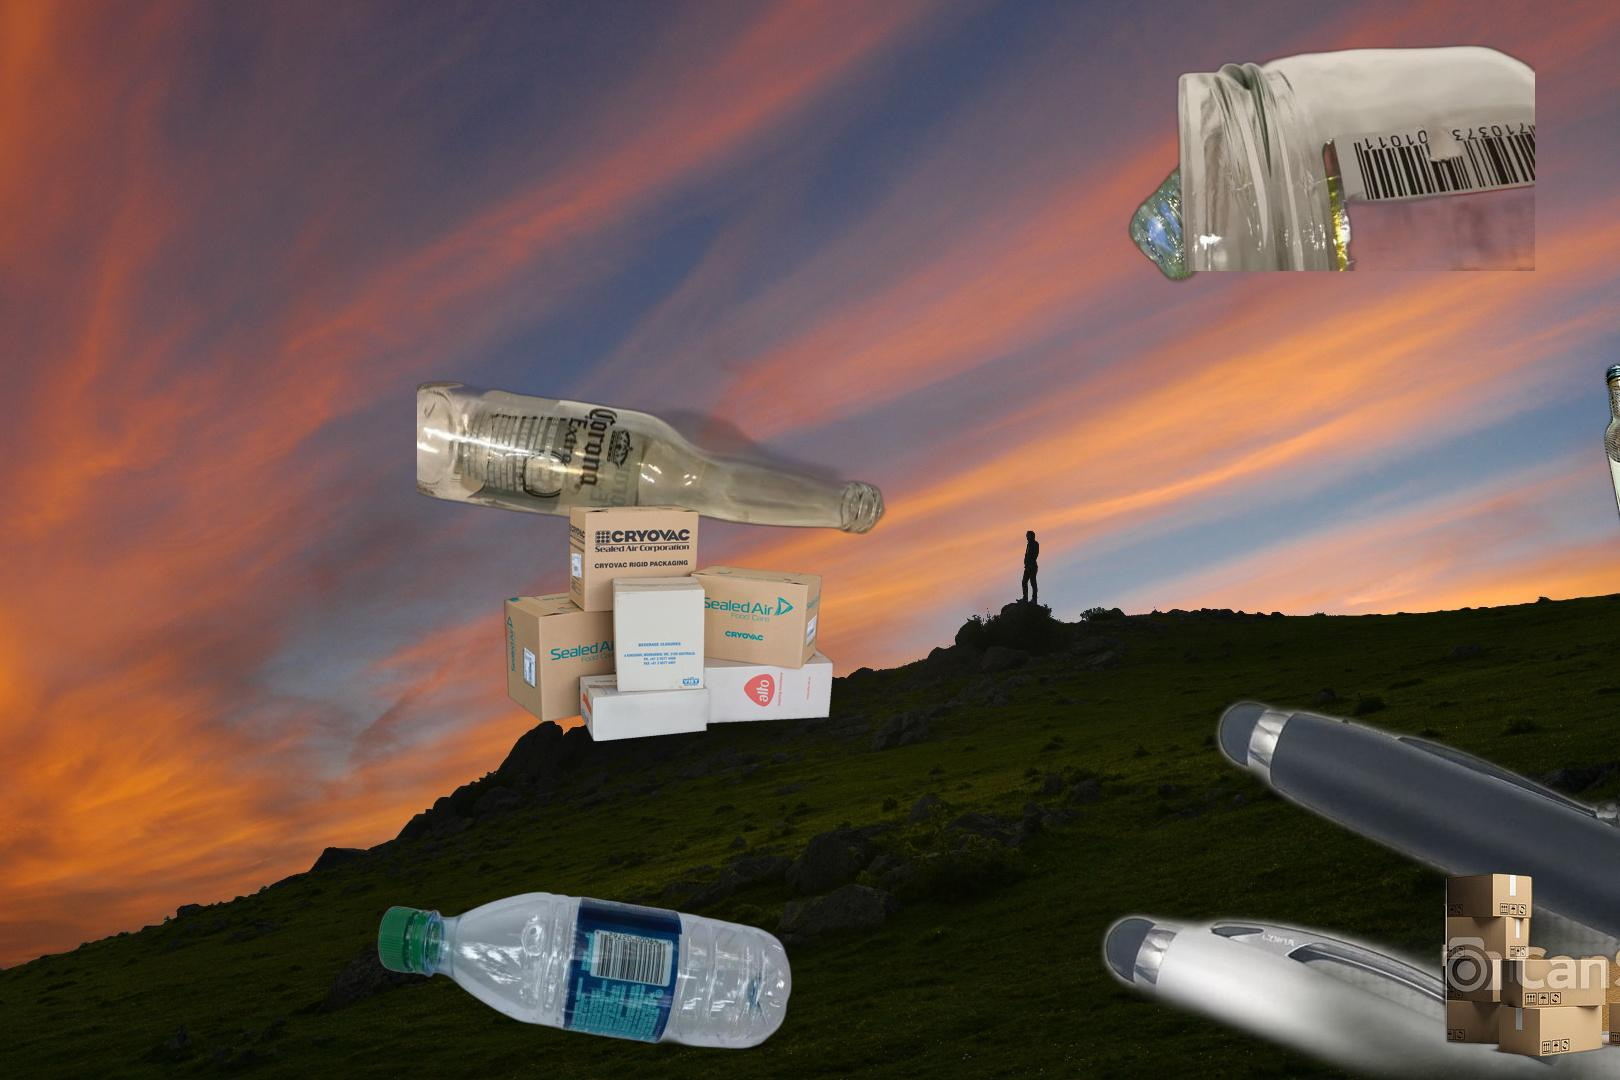glass: (1173, 42, 1534, 271), (417, 377, 890, 538), (1601, 359, 1620, 547)
penholder: (884, 686, 1620, 1080)
plastic-bottles: (990, 80, 1336, 633), (372, 890, 797, 1052)
trashbox-cardboard: (503, 504, 834, 742), (1434, 871, 1620, 1058)
